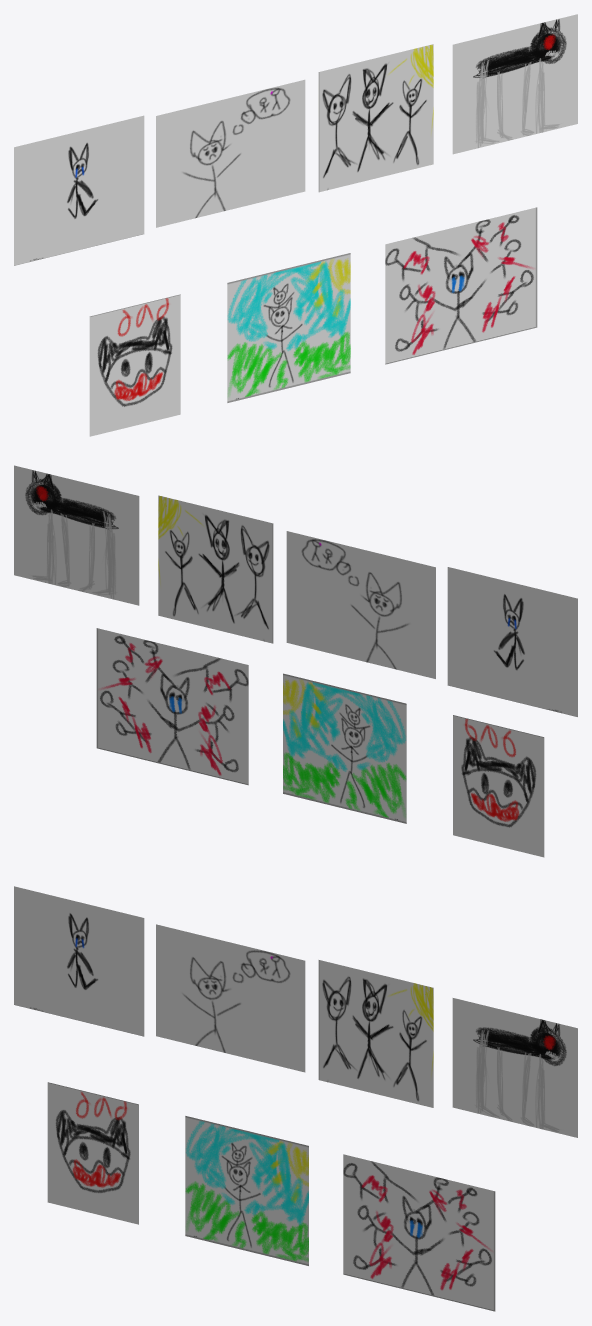
The model's file is Pictures .fbx.
3 renders of one model, top to bottom at view 1: azimuth 30°, elevation 25°; view 2: azimuth 150°, elevation 25°; view 3: azimuth 330°, elevation 25°, orthographic.
Visible parts, largest first — view 1: Plane.007, Plane.001, Plane.008, Plane.006, Plane.002, Plane.003, Plane.005; view 2: Plane.007, Plane.001, Plane.008, Plane.006, Plane.002, Plane.003, Plane.005; view 3: Plane.007, Plane.001, Plane.008, Plane.006, Plane.002, Plane.003, Plane.005.
Boxes of the visible parts, bbox=[...] form: Plane.007: bbox=[385, 207, 537, 364]; Plane.001: bbox=[156, 79, 305, 227]; Plane.008: bbox=[14, 115, 144, 265]; Plane.006: bbox=[227, 253, 350, 402]; Plane.002: bbox=[318, 44, 433, 192]; Plane.003: bbox=[452, 14, 577, 154]; Plane.005: bbox=[89, 294, 180, 436]; Plane.007: bbox=[96, 628, 248, 785]; Plane.001: bbox=[286, 531, 435, 678]; Plane.008: bbox=[447, 567, 577, 716]; Plane.006: bbox=[283, 673, 406, 823]; Plane.002: bbox=[158, 495, 273, 643]; Plane.003: bbox=[14, 465, 139, 605]; Plane.005: bbox=[453, 715, 544, 857]; Plane.007: bbox=[343, 1154, 495, 1311]; Plane.001: bbox=[156, 924, 305, 1072]; Plane.008: bbox=[14, 886, 144, 1036]; Plane.006: bbox=[185, 1116, 308, 1265]; Plane.002: bbox=[318, 960, 433, 1107]; Plane.003: bbox=[452, 998, 577, 1137]; Plane.005: bbox=[47, 1082, 138, 1224].
Bounding box in the file's own units: 1683 × 822 × 108.
